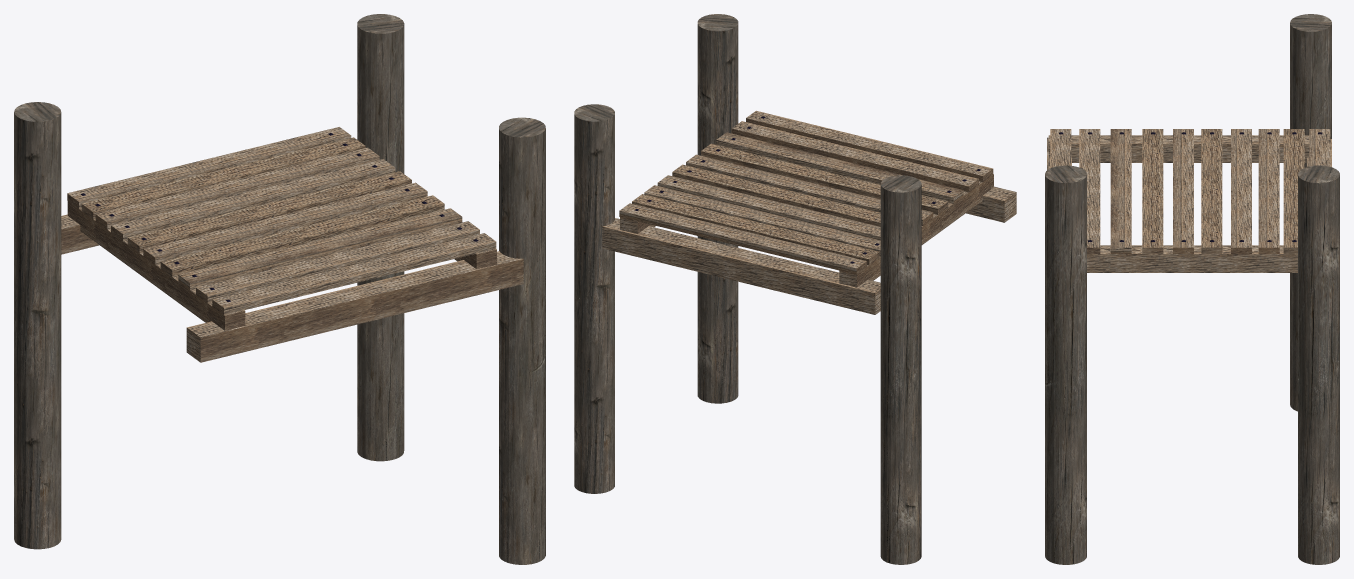
Rendered from Plataforma madera 4to C.fbx.
3 views of the same model, side by side, from view 1: azimuth 30°, elevation 25°; view 2: azimuth 150°, elevation 25°; view 3: azimuth 270°, elevation 25° (orthographic). The views are drawn at different scales.
Visible parts, largest first — view 1: piso maderas 4x4, soporte piso, poste 6, viga; view 2: soporte piso, piso maderas 4x4, poste 6, viga; view 3: piso maderas 4x4, soporte piso, poste 6.
Part boxes in pixels (box(x1,y1,x2,y2)): piso maderas 4x4: box(67, 127, 496, 330); soporte piso: box(14, 14, 404, 549); poste 6: box(499, 117, 545, 564); viga: box(186, 251, 523, 362); soporte piso: box(574, 104, 921, 564); piso maderas 4x4: box(619, 110, 993, 287); poste 6: box(697, 14, 738, 403); viga: box(966, 186, 1016, 222); piso maderas 4x4: box(1048, 129, 1330, 272); soporte piso: box(1290, 14, 1339, 564); poste 6: box(1045, 165, 1086, 564).
Size of the model in its own units: 570 by 600 by 420.
3 materials, 2 textured.
